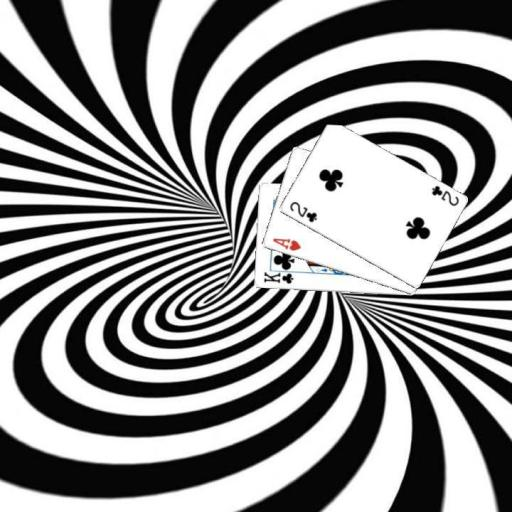card-corner: (286, 198, 318, 224), (428, 182, 460, 208), (261, 266, 298, 285), (270, 234, 302, 252)
